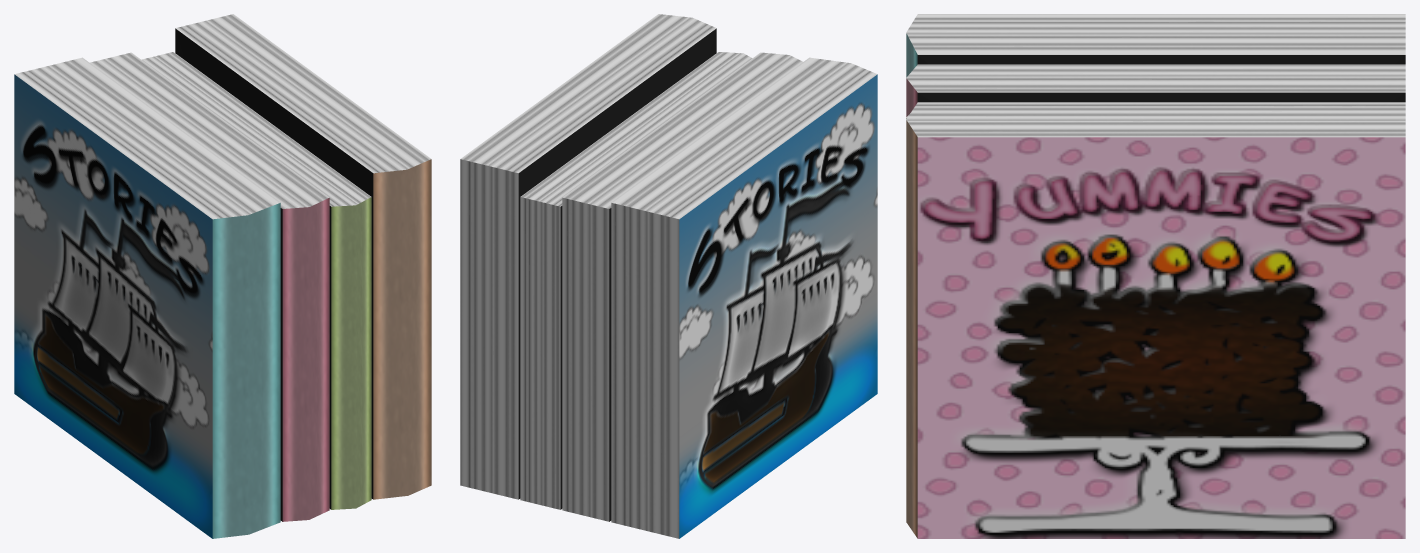
Rendered from Books_A.FBX.
The picture shows the model from 3 angles, left to right: view 1: azimuth 30°, elevation 25°; view 2: azimuth 150°, elevation 25°; view 3: azimuth 270°, elevation 25°; orthographic projection. The views are drawn at different scales.
Parts seen in each view (by area): view 1: Books_05; view 2: Books_05; view 3: Books_05.
Part boxes in pixels (box(x1,y1,x2,y2)): Books_05: box(14, 14, 431, 538); Books_05: box(460, 14, 877, 538); Books_05: box(906, 14, 1405, 538).
Bounding box in the file's own units: 32.66 × 46.49 × 52.4.
